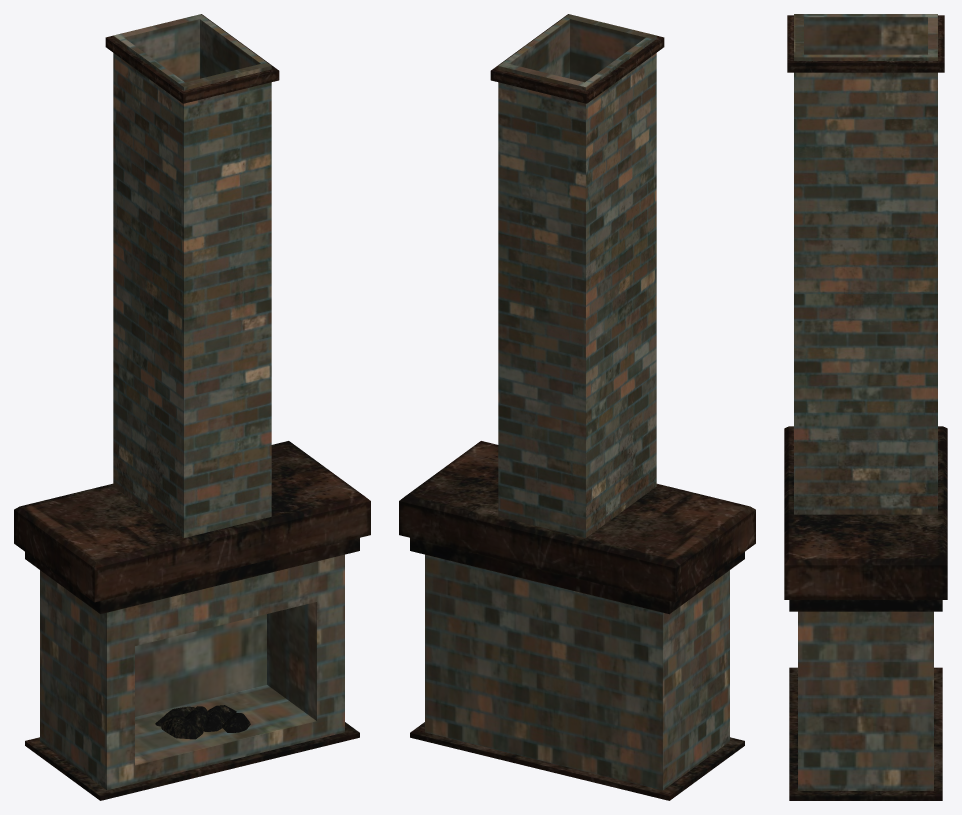
The model's file is ChimneyFurnace.fbx.
3 views of the same model, side by side, from view 1: azimuth 30°, elevation 25°; view 2: azimuth 150°, elevation 25°; view 3: azimuth 270°, elevation 25° (orthographic).
Parts seen in each view (by area): view 1: ChimneyFurnace_v1; view 2: ChimneyFurnace_v1; view 3: ChimneyFurnace_v1.
Boxes of the visible parts, box(x1,y1,x2,y2) form: ChimneyFurnace_v1: box(14, 14, 370, 800); ChimneyFurnace_v1: box(399, 14, 755, 800); ChimneyFurnace_v1: box(784, 14, 947, 800).
Size of the model in its own units: 162 by 388 by 81.91.
1 material, 1 textured.
